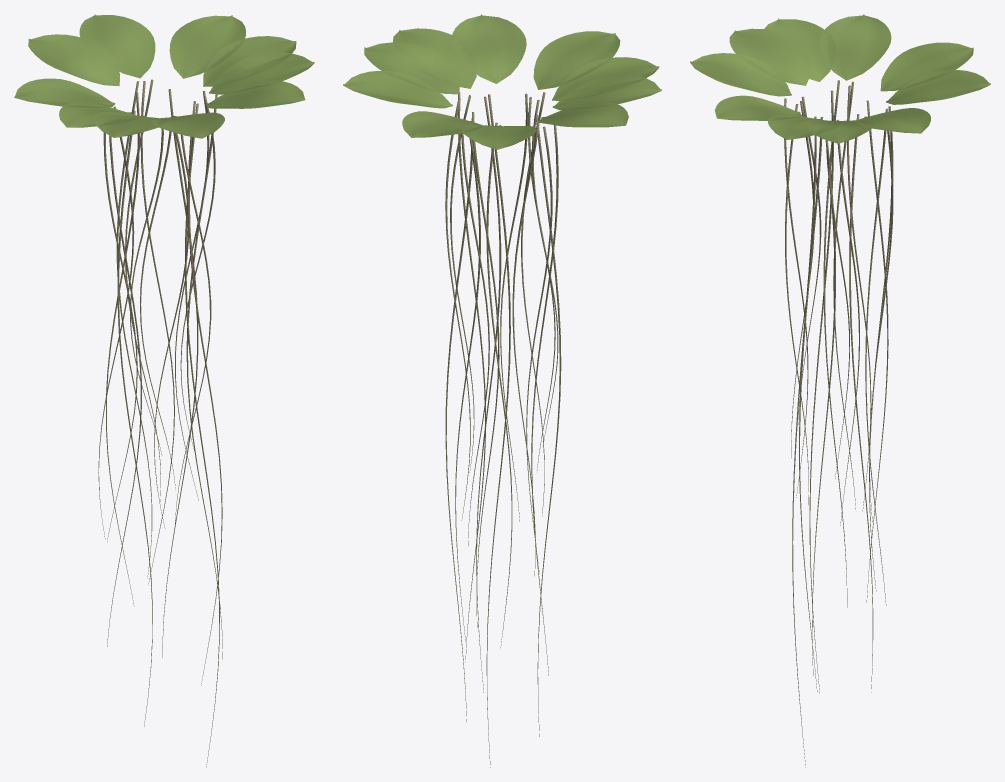
File: salvinia-desktop.glb
3 views of the same model, side by side, from view 1: azimuth 30°, elevation 25°; view 2: azimuth 150°, elevation 25°; view 3: azimuth 270°, elevation 25° (orthographic). The views are drawn at different scales.
Visible parts, largest first — view 1: floating-leaf, hanging-root; view 2: floating-leaf, hanging-root; view 3: floating-leaf, hanging-root.
Boxes of the visible parts, bbox=[...] form: floating-leaf: bbox=[14, 14, 314, 138]; hanging-root: bbox=[98, 79, 222, 767]; floating-leaf: bbox=[343, 14, 661, 149]; hanging-root: bbox=[445, 92, 561, 767]; floating-leaf: bbox=[690, 14, 990, 143]; hanging-root: bbox=[784, 80, 893, 767].
Size of the model in its own units: 0.3177 by 0.779 by 0.3142.
